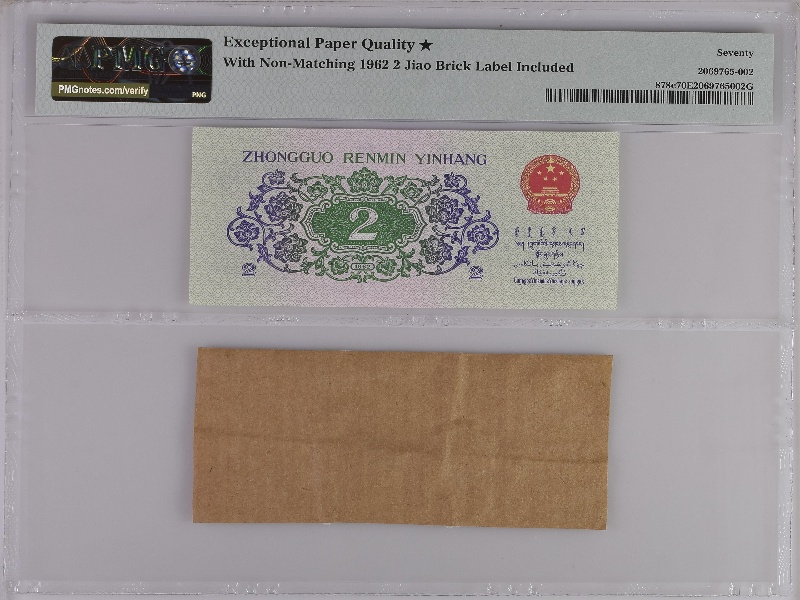papernote: (191, 124, 617, 312), (196, 343, 613, 531)
